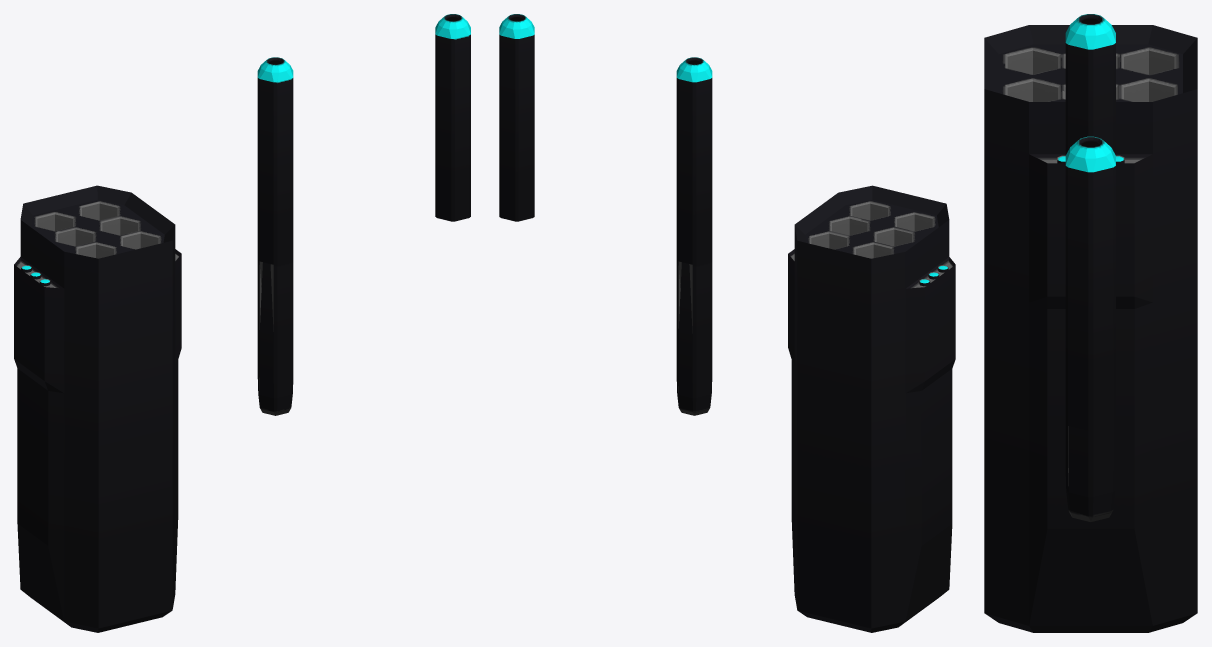
Rendered from Turret MK5 Missile Launcher.glb.
3 views of the same model, side by side, from view 1: azimuth 30°, elevation 25°; view 2: azimuth 150°, elevation 25°; view 3: azimuth 270°, elevation 25° (orthographic). The views are drawn at different scales.
Parts seen in each view (by area): view 1: MK 5, Missile_MK_5, Fake_Missile_MK_5, Missile_MK_5_Fin_3; view 2: MK 5, Missile_MK_5, Fake_Missile_MK_5, Missile_MK_5_Fin_1; view 3: MK 5, Fake_Missile_MK_5, Missile_MK_5, Missile_MK_5_Fin_2.
Boxes of the visible parts, x1=… form: MK 5: x1=14, y1=185, x2=181, y2=632; Missile_MK_5: x1=257, y1=57, x2=293, y2=415; Fake_Missile_MK_5: x1=435, y1=14, x2=470, y2=221; Missile_MK_5_Fin_3: x1=259, y1=262, x2=273, y2=398; MK 5: x1=788, y1=185, x2=955, y2=632; Missile_MK_5: x1=676, y1=57, x2=712, y2=415; Fake_Missile_MK_5: x1=499, y1=14, x2=534, y2=221; Missile_MK_5_Fin_1: x1=678, y1=262, x2=692, y2=397; MK 5: x1=984, y1=25, x2=1197, y2=632; Fake_Missile_MK_5: x1=1065, y1=136, x2=1115, y2=430; Missile_MK_5: x1=1065, y1=14, x2=1115, y2=521; Missile_MK_5_Fin_2: x1=1068, y1=426, x2=1088, y2=496.
Size of the model in its own units: 1.24 by 1.34 by 0.3671.
2 materials, 2 textured.
